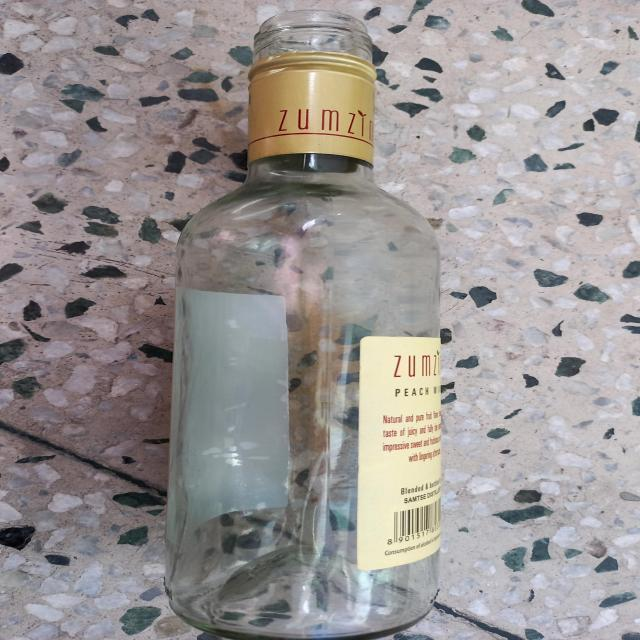Glass: (162, 9, 442, 640)
